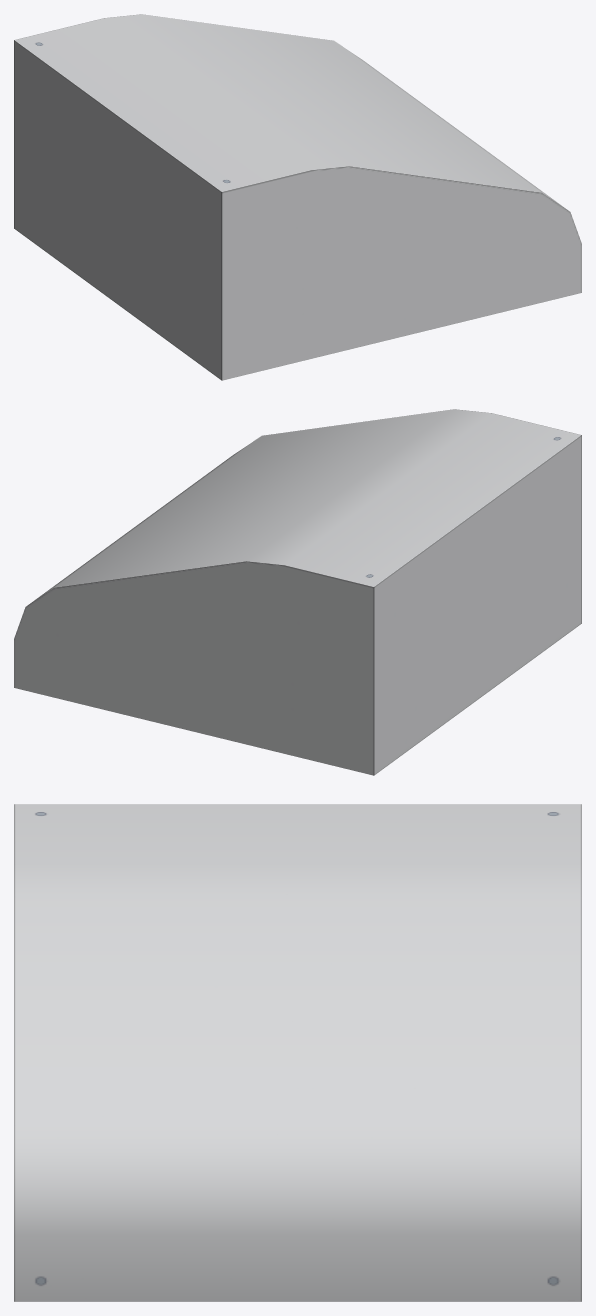
File: Roof_Border_Line_04.FBX
The picture shows the model from 3 angles, top to bottom: view 1: azimuth 30°, elevation 25°; view 2: azimuth 150°, elevation 25°; view 3: azimuth 270°, elevation 25°; orthographic projection. The views are drawn at different scales.
Parts seen in each view (by area): view 1: Roof_Border_Line_04; view 2: Roof_Border_Line_04; view 3: Roof_Border_Line_04.
Boxes of the visible parts, box(x1,y1,x2,y2) form: Roof_Border_Line_04: box(14, 14, 581, 380); Roof_Border_Line_04: box(14, 409, 581, 775); Roof_Border_Line_04: box(14, 804, 581, 1301).
Bounding box in the file's own units: 2 × 1 × 2.
3 materials, 3 textured.
